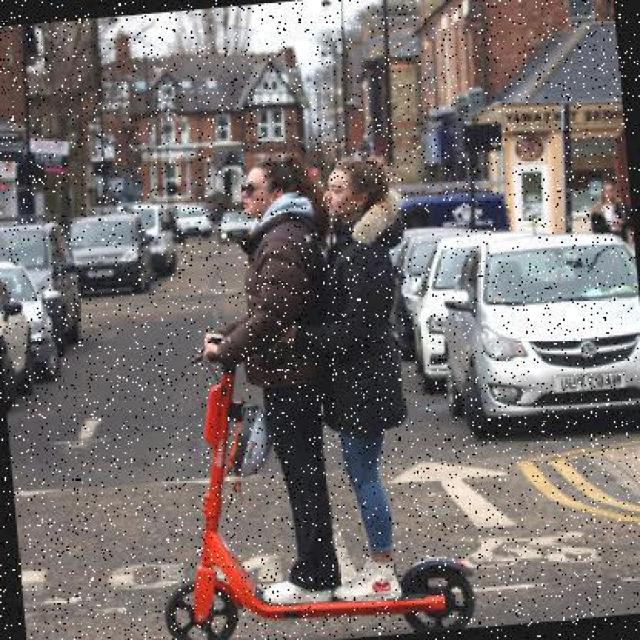bare_head: (311, 146, 394, 225), (226, 157, 308, 214)
human: (215, 163, 346, 604), (313, 145, 401, 604)
kickboard: (149, 540, 478, 639)
